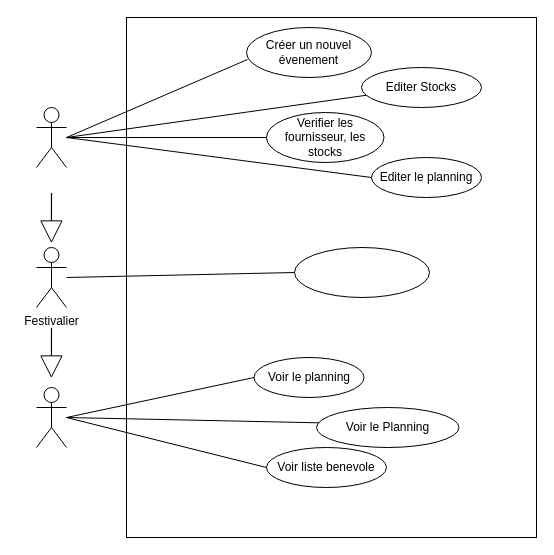
Some shapes in this 554 by 555 pixel diagram are drawn without their labels. The shapes that lost their labels are listed below. From the top down, each one's box as (x1, y1, x2, y2) in pixels, then its label:
(36, 106, 66, 168): Organisateur
(294, 246, 430, 298): Décrementer les stocks
(36, 386, 66, 448): Viewer
